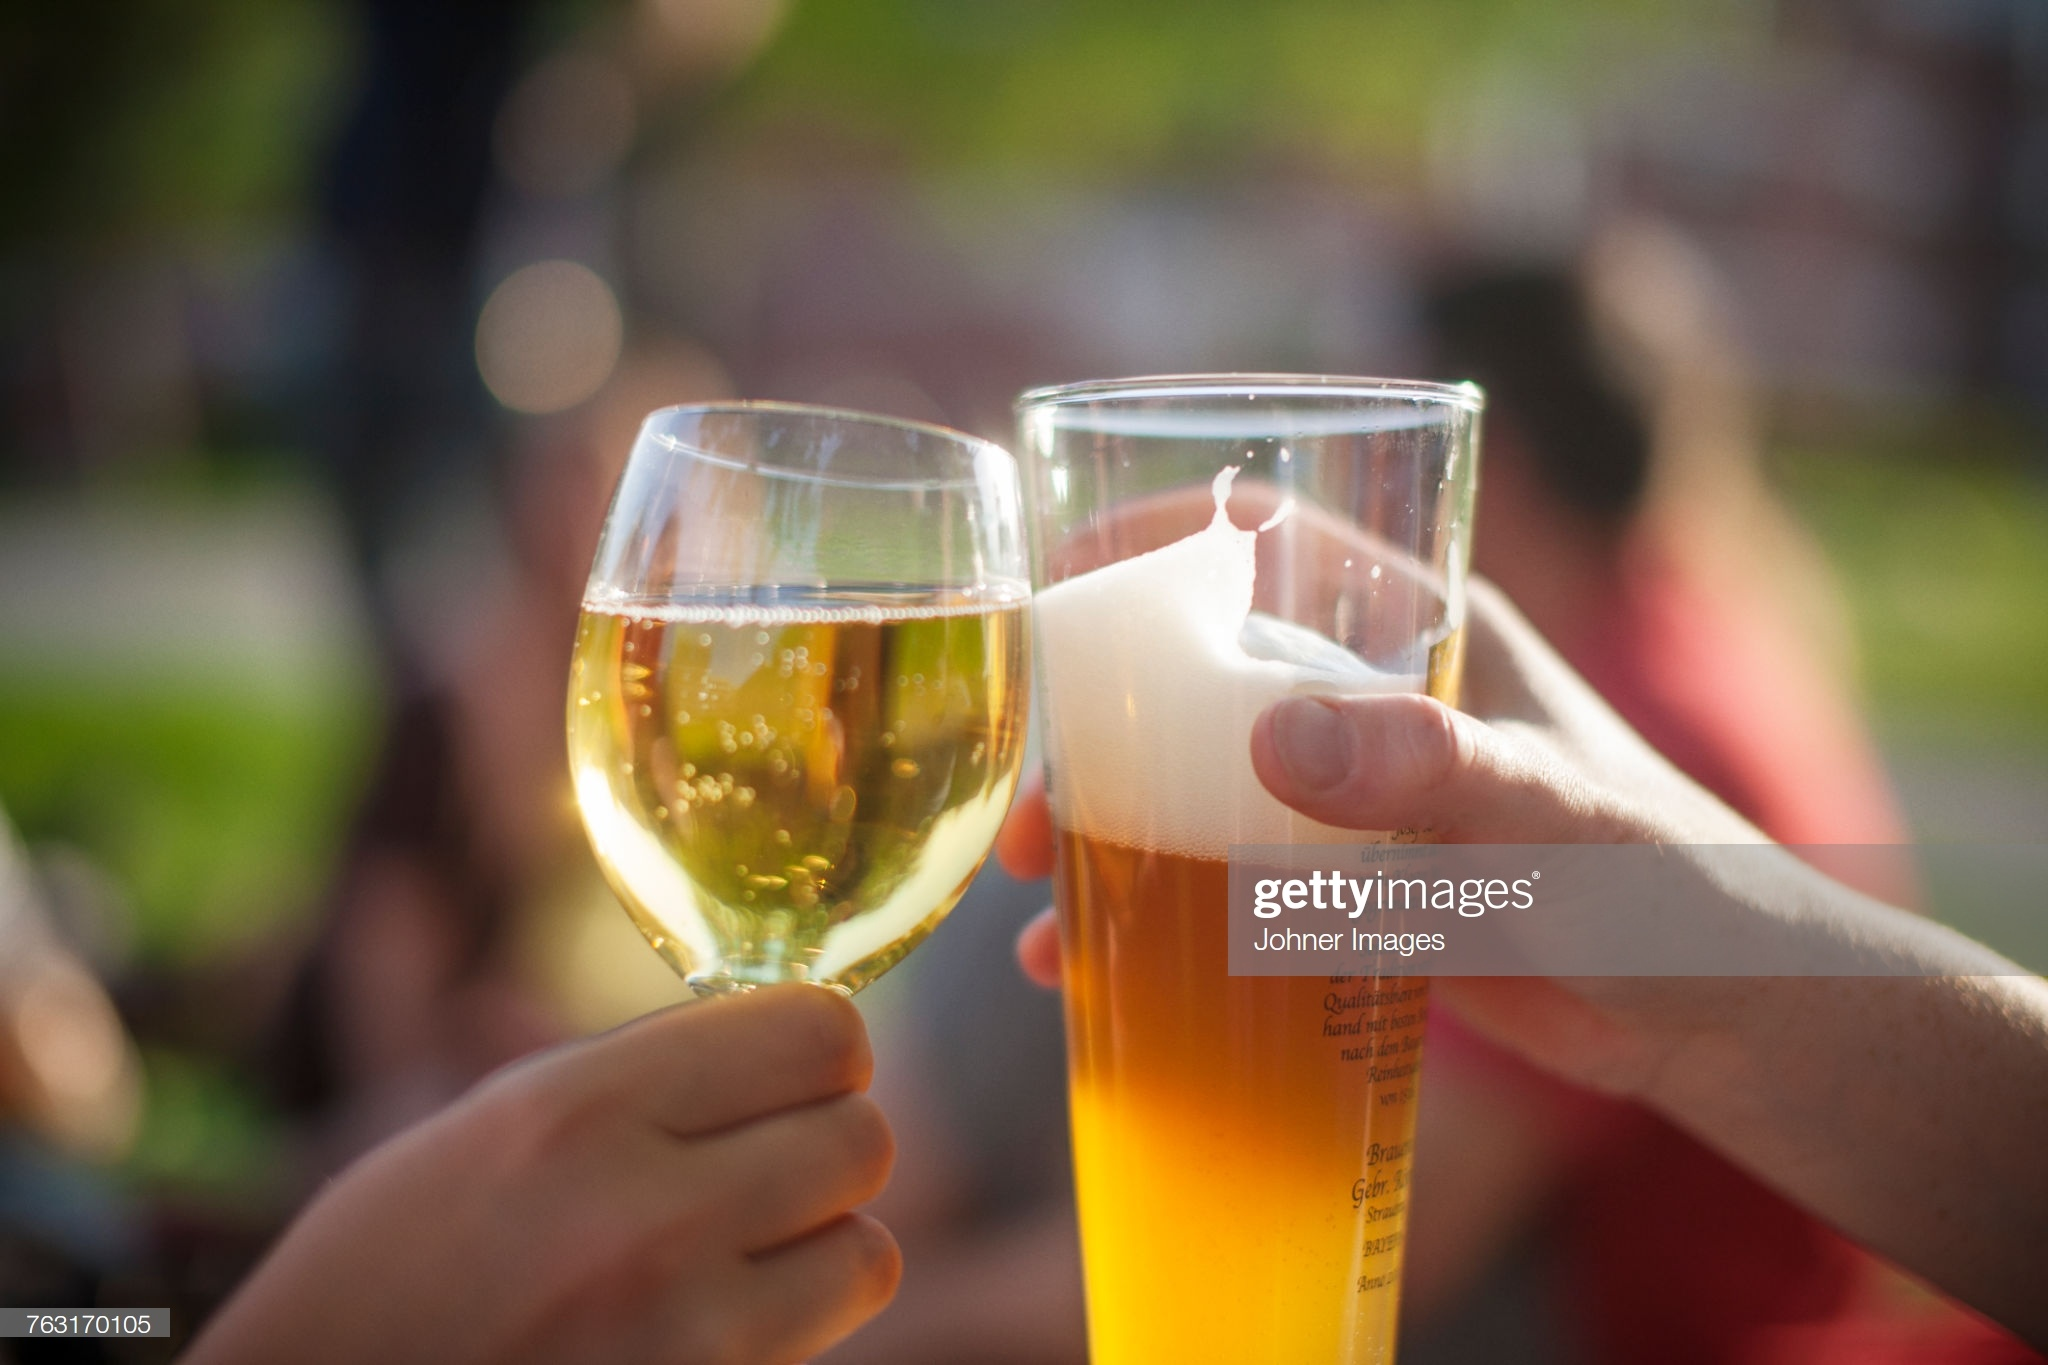glassBeer: (1037, 355, 1485, 1365), (589, 379, 1022, 1041)
